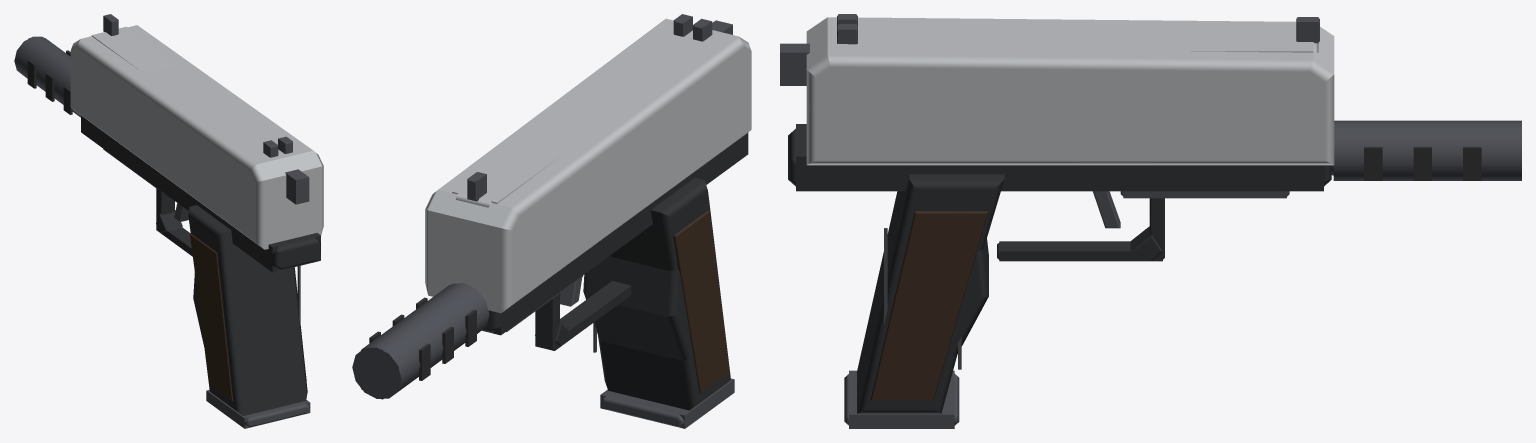
File: magnum.glb
3 renders of one model, left to right at view 1: azimuth 30°, elevation 25°; view 2: azimuth 150°, elevation 25°; view 3: azimuth 270°, elevation 25°, orthographic. The views are drawn at different scales.
Visible parts, largest first — view 1: L0, L1; view 2: L0, L1; view 3: L0, L1.
Boxes of the visible parts, x1,y1,x2,y2 form: L0: [14, 14, 323, 427]; L1: [16, 14, 320, 428]; L0: [352, 14, 751, 427]; L1: [353, 14, 748, 428]; L0: [780, 15, 1521, 425]; L1: [796, 14, 1521, 428].
Bounding box in the file's own units: 0.0456 × 0.162 × 0.281.
